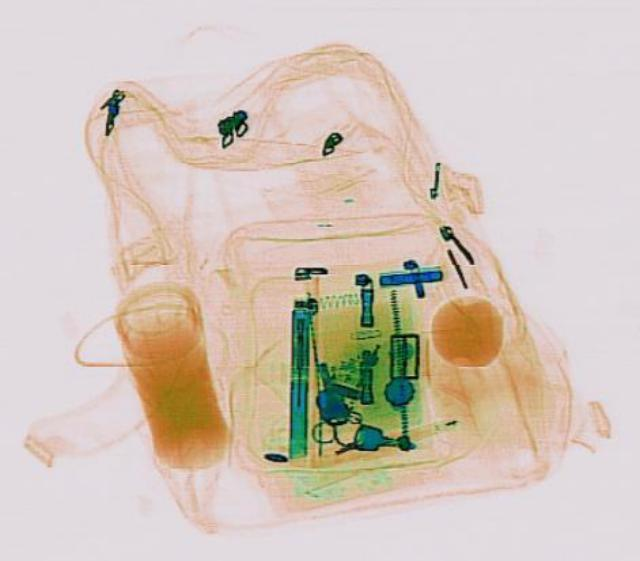Scissors: (296, 356, 364, 450)
